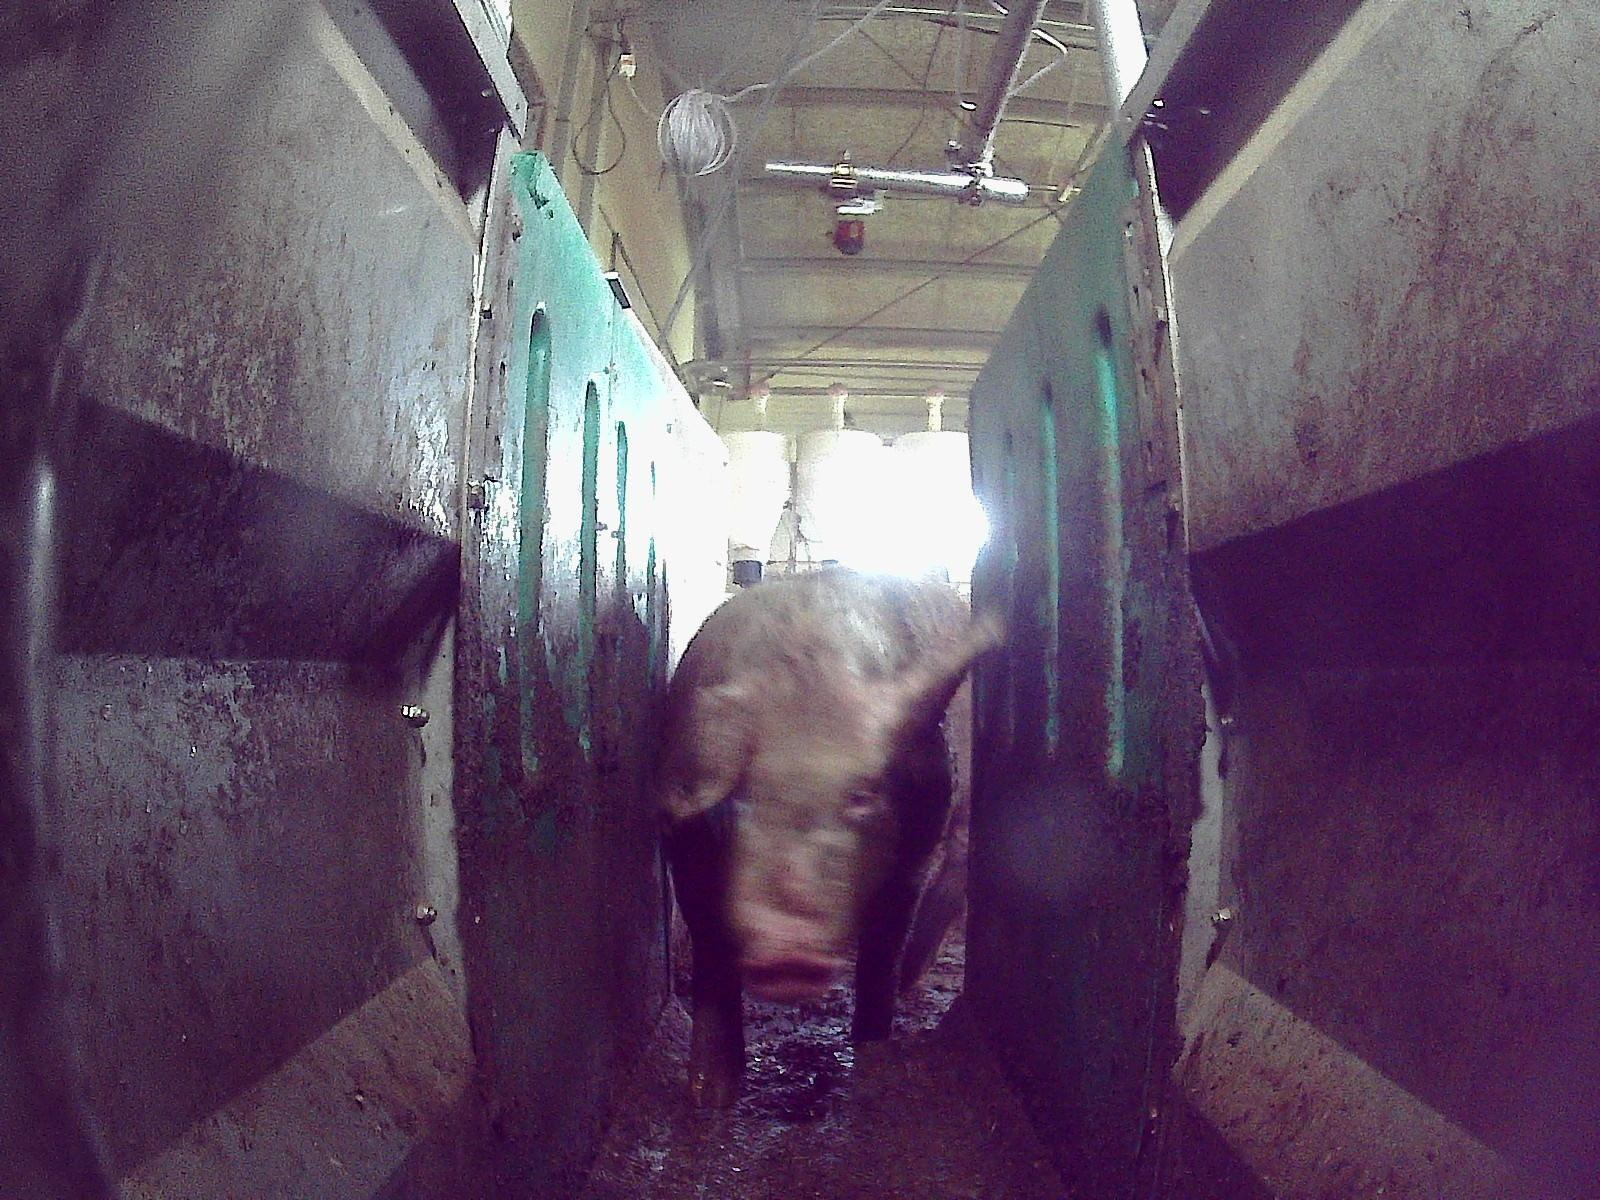Face: (706, 661, 907, 1003)
